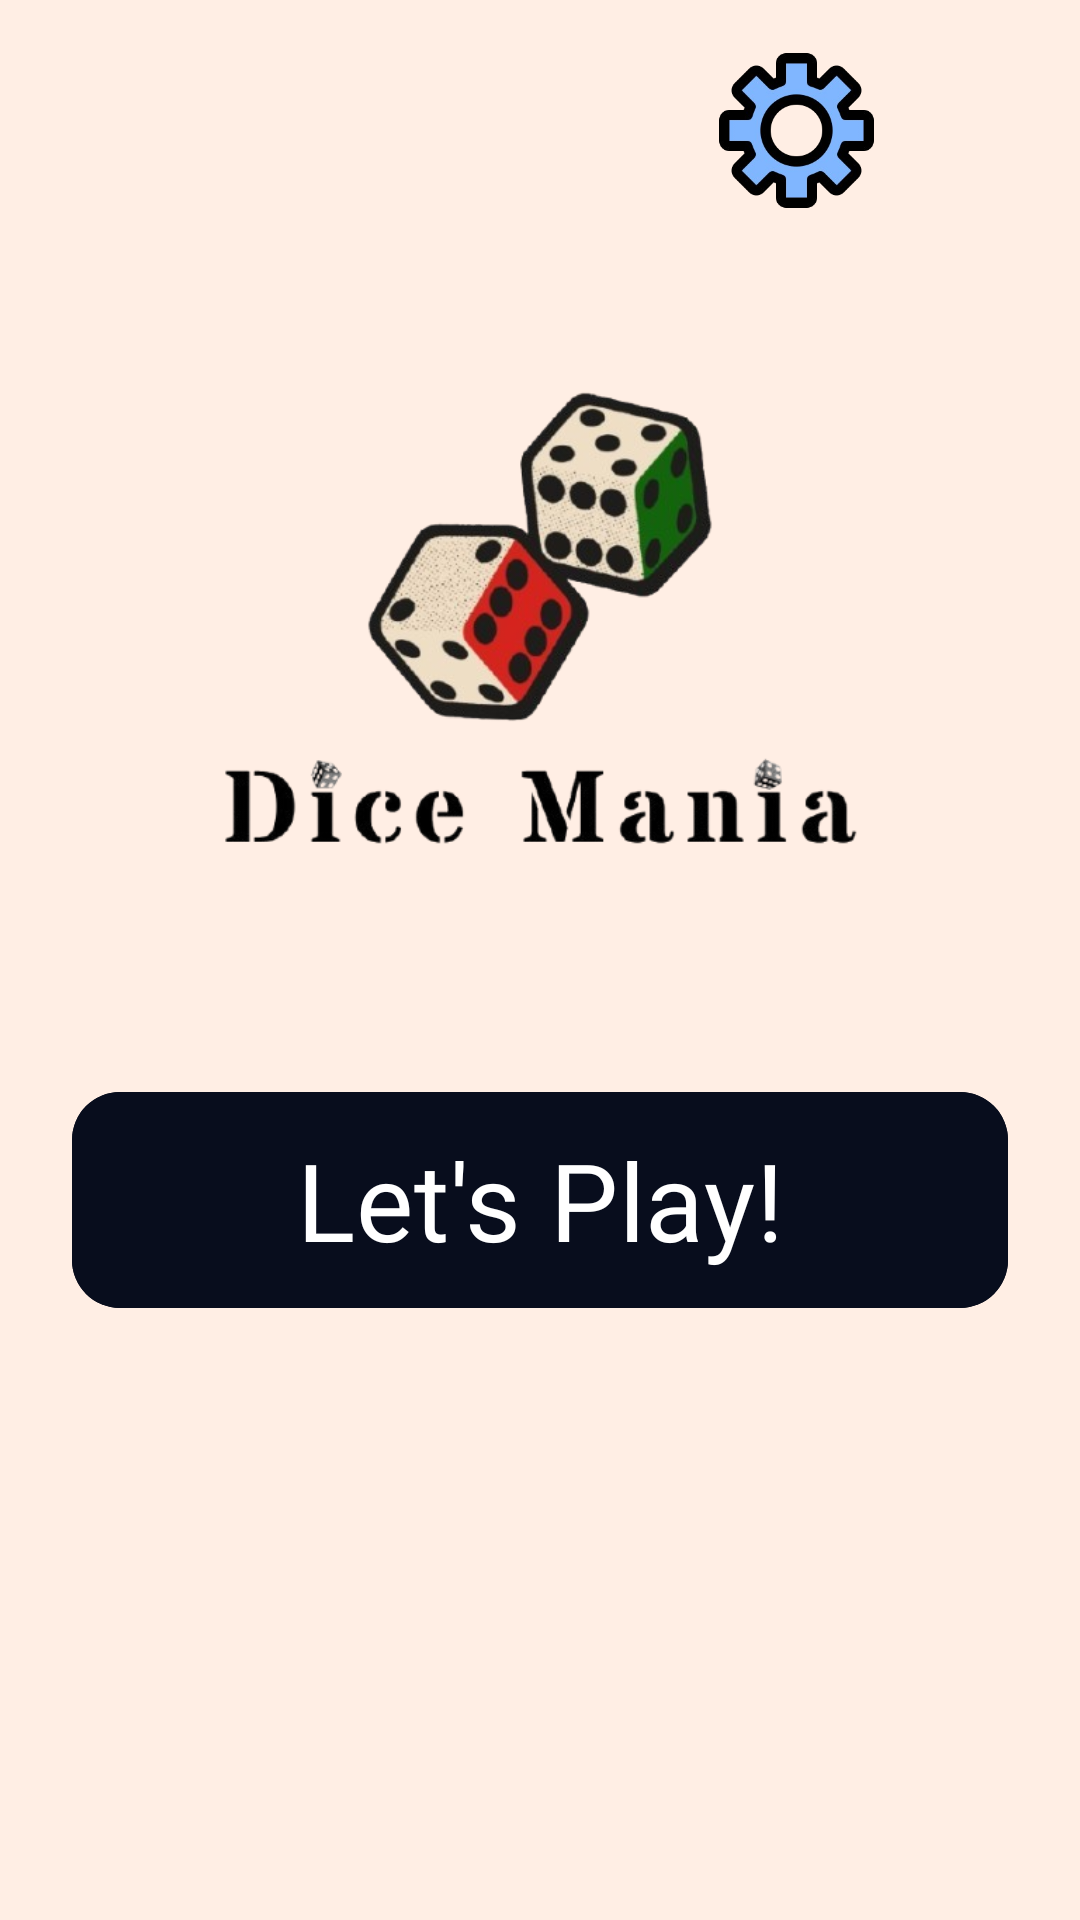

Icon bounding boxes for this 1080 × 1920 phone screenshot, format region(x1, y1, x2, y2):
Settings: region(719, 53, 874, 208)
